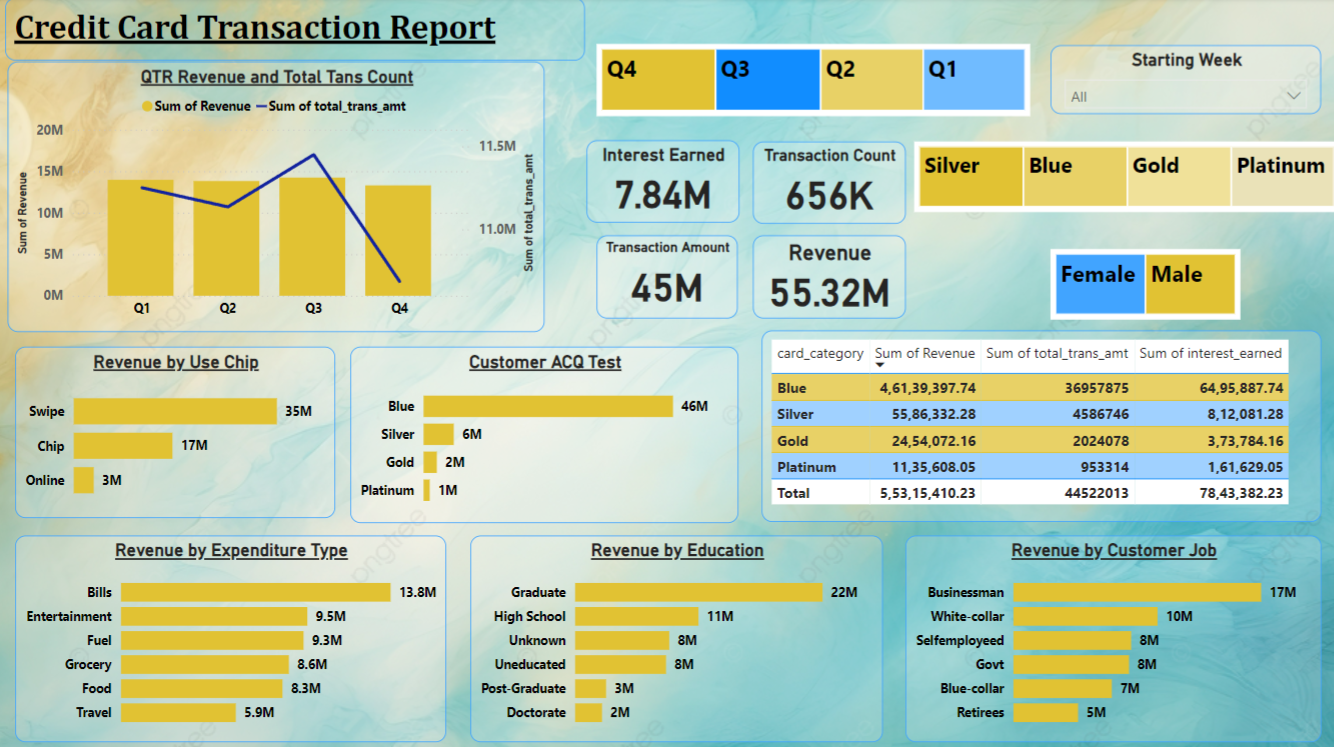

Layout of this report page (visuals, bound fields, positions):
{"tool":"powerbi","page":{"name":"Credit Card Transactions","canvas":[1280,720],"ordinal":0},"visuals":[{"type":"textbox","box":[9.6,0,551.6,60.4],"z":0},{"type":"lineStackedColumnComboChart","title":"QTR Revenue and Total Tans Count","fields":{"Category":["public cc_detail.qtr"],"Y":["Sum(public cc_detail.Revenue)"],"Y2":["Sum(public cc_detail.total_trans_amt)"]},"box":[11.6,60.7,511.5,257.2],"z":1000},{"type":"barChart","title":"Revenue by Expenditure Type","fields":{"Y":["Sum(public cc_detail.Revenue)"],"Category":["public cc_detail.exp_type"]},"box":[18.8,511.5,410.4,196.5],"z":2000},{"type":"barChart","title":"Revenue by Education ","fields":{"Y":["Sum(public cc_detail.Revenue)"],"Category":["public cust_detail.education_level"]},"box":[452.3,511.5,393,196.5],"z":3000},{"type":"barChart","title":"Revenue by Customer Job","fields":{"Y":["Sum(public cc_detail.Revenue)"],"Category":["public cust_detail.customer_job"]},"box":[867,511.5,395.9,196.5],"z":4000},{"type":"barChart","title":"Customer ACQ Test","fields":{"Y":["Sum(public cc_detail.Revenue)"],"Category":["public cc_detail.card_category"]},"box":[338.1,332.4,369.9,167.6],"z":5000},{"type":"barChart","title":"Revenue by Use Chip","fields":{"Y":["Sum(public cc_detail.Revenue)"],"Category":["public cc_detail.use_chip"]},"box":[18.8,332.4,304.9,163.3],"z":6000},{"type":"tableEx","fields":{"Values":["public cc_detail.card_category","Sum(public cc_detail.Revenue)","Sum(public cc_detail.total_trans_amt)","Sum(public cc_detail.interest_earned)"]},"box":[730,317,532.4,182.5],"z":7000},{"type":"card","title":"Revenue","fields":{"Values":["Sum(public cc_detail.Revenue)"]},"box":[721.8,226.4,145.5,79.6],"z":8000},{"type":"card","title":"Transaction Amount","fields":{"Values":["Sum(public cc_detail.total_trans_amt)"]},"box":[560.7,226.2,146.4,79.8],"z":9000},{"type":"card","title":"Transaction Count","fields":{"Values":["Sum(public cc_detail.total_trans_ct)"]},"box":[721.8,137.2,145.5,78.2],"z":10000},{"type":"card","title":"Interest Earned","fields":{"Values":["Sum(public cc_detail.interest_earned)"]},"box":[562.6,135.8,145.5,78.2],"z":11000},{"type":"slicer","title":"Starting Week","fields":{"Values":["public cc_detail.week_start_date"]},"box":[1004.5,45.3,258,65.9],"z":12000},{"type":"treemap","fields":{"Group":["public cc_detail.qtr"],"Values":["Avg(public cust_detail.client_num)"]},"box":[572.2,43.9,413,68.6],"z":13000},{"type":"treemap","fields":{"Values":["Avg(public cust_detail.client_num)"],"Group":["public cust_detail.gender"]},"box":[1004.5,238.8,181.1,67.2],"z":14000},{"type":"treemap","fields":{"Values":["Avg(public cust_detail.client_num)"],"Group":["public cc_detail.card_category"]},"box":[875.5,137.2,404.8,67.2],"z":15000}]}

Visuals, with their boxes in screenshot pixels (x1, y1, x2, y2), scaled from the page's 1280x720 canvas onto the 1334x747 screenshot:
textbox: box=[10, 0, 585, 63]
"QTR Revenue and Total Tans Count" lineStackedColumnComboChart: box=[12, 63, 545, 330]
"Revenue by Expenditure Type" barChart: box=[20, 531, 447, 735]
"Revenue by Education " barChart: box=[471, 531, 881, 735]
"Revenue by Customer Job" barChart: box=[904, 531, 1316, 735]
"Customer ACQ Test" barChart: box=[352, 345, 738, 519]
"Revenue by Use Chip" barChart: box=[20, 345, 337, 514]
tableEx - public cc_detail.card_category x Sum(public cc_detail.Revenue): box=[761, 329, 1316, 518]
"Revenue" card: box=[752, 235, 904, 317]
"Transaction Amount" card: box=[584, 235, 737, 317]
"Transaction Count" card: box=[752, 142, 904, 223]
"Interest Earned" card: box=[586, 141, 738, 222]
"Starting Week" slicer: box=[1047, 47, 1316, 115]
treemap - public cc_detail.qtr x Avg(public cust_detail.client_num): box=[596, 46, 1027, 117]
treemap - Avg(public cust_detail.client_num) x public cust_detail.gender: box=[1047, 248, 1236, 317]
treemap - Avg(public cust_detail.client_num) x public cc_detail.card_category: box=[912, 142, 1333, 212]
